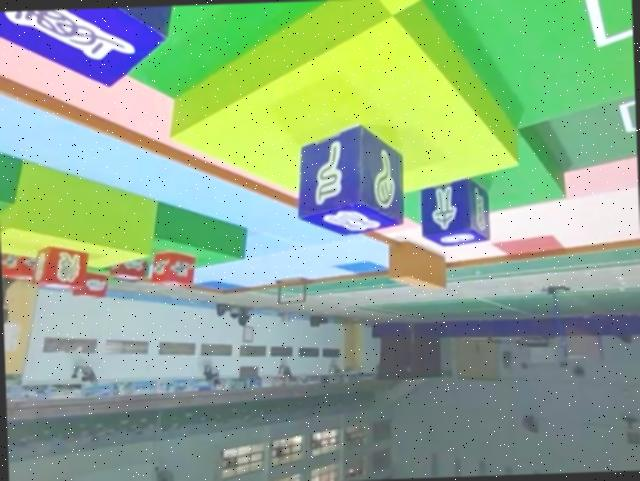R2 Fake Blue: (0, 4, 182, 90), (296, 119, 407, 234), (419, 176, 490, 247)
